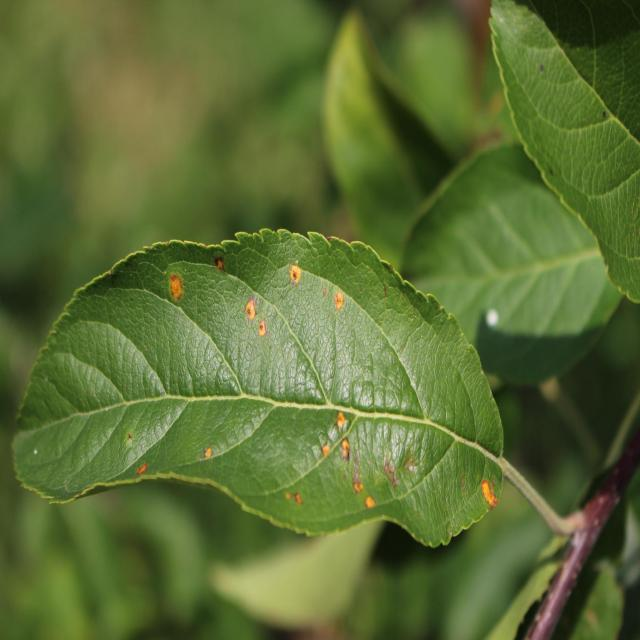Rust: (480, 469, 502, 515), (166, 263, 185, 306), (284, 260, 306, 294), (331, 284, 351, 319), (212, 250, 229, 282), (338, 435, 356, 463), (129, 463, 153, 481), (360, 494, 380, 515), (351, 475, 368, 499), (335, 405, 348, 433), (319, 433, 330, 464), (244, 297, 256, 323), (255, 320, 269, 338), (202, 444, 215, 461), (297, 489, 307, 510)
